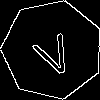V: (27, 24, 78, 80)
